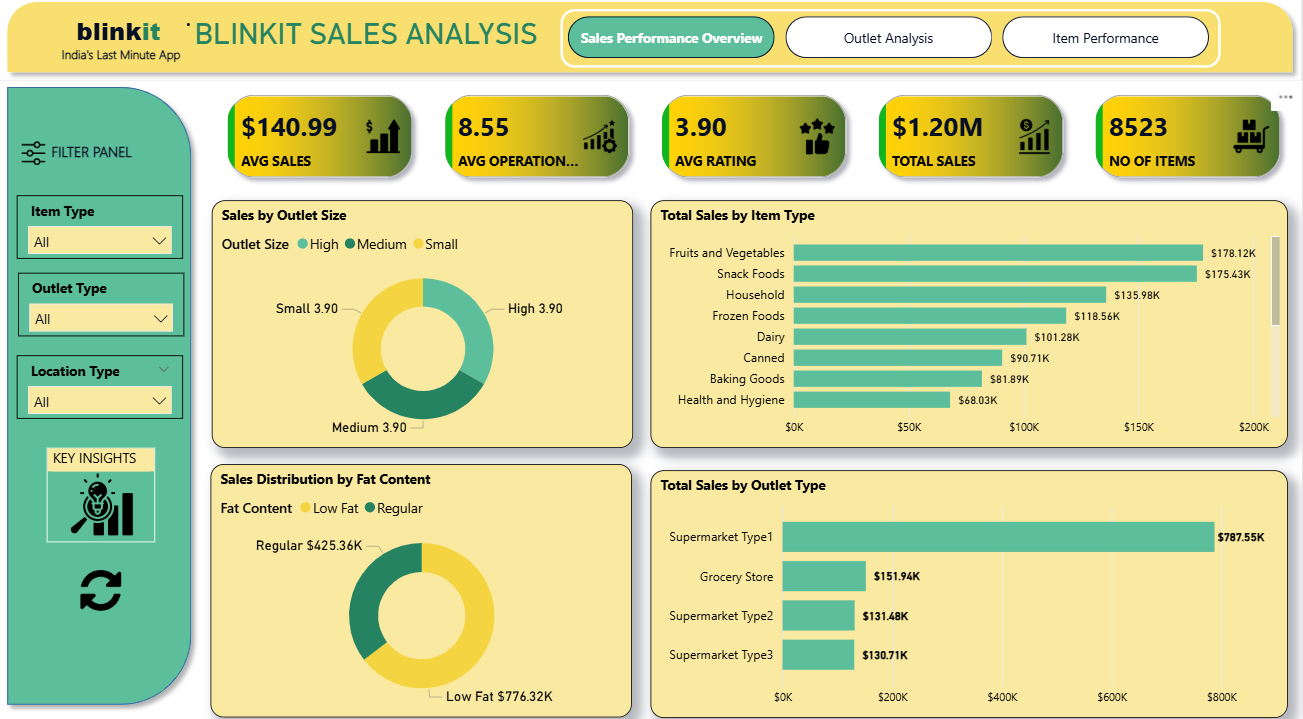

What the dashboard file says about the page in this screenshot:
{"tool":"powerbi","page":{"name":"Sales Performance Overview","canvas":[1280,720],"ordinal":0},"visuals":[{"type":"cardVisual","fields":{"Data":["DAX MEASURES.Average Sales per Outlet","DAX MEASURES.Average Years of Operation","DAX MEASURES.Avg Item Rating (CSAT)","DAX MEASURES.Total Sales","DAX MEASURES.No of Items"]},"box":[208.6,87.1,1071.2,115.3],"z":0},{"type":"image","box":[67.5,469.9,96.9,56.4],"z":1000},{"type":"donutChart","title":"Sales Distribution by Fat Content","fields":{"Category":["BlinkIT Grocery Data.Item Fat Content"],"Y":["DAX MEASURES.Total Sales"]},"box":[208.6,466.3,413.5,249.1],"z":2000},{"type":"donutChart","title":"Sales by Outlet Size","fields":{"Category":["BlinkIT Grocery Data.Outlet Size"],"Y":["DAX MEASURES.Avg Item Rating (CSAT)"]},"box":[209.8,207.4,413.5,242.9],"z":3000},{"type":"shape","box":[0,3.7,1279.8,87.1],"z":4000},{"type":"clusteredBarChart","fields":{"Category":["BlinkIT Grocery Data.Item Type"],"Y":["DAX MEASURES.Total Sales"]},"box":[640.5,207.4,625.8,242.9],"z":5000},{"type":"shape","box":[0,87.1,198.8,624.5],"z":6000},{"type":"clusteredBarChart","fields":{"Category":["BlinkIT Grocery Data.Outlet Type"],"Y":["DAX MEASURES.Total Sales"]},"box":[640.5,472.4,625.8,242.9],"z":7000},{"type":"textbox","box":[28.2,18.4,180.4,57.7],"z":8000},{"type":"textbox","box":[30.7,49.1,180.4,38],"z":9000},{"type":"textbox","box":[164.4,22.1,375.5,65],"z":10000},{"type":"slicer","fields":{"Values":["BlinkIT Grocery Data.Item Type"]},"box":[18.4,202.5,163.2,62.6],"z":11000},{"type":"slicer","fields":{"Values":["BlinkIT Grocery Data.Outlet Type"]},"box":[19.6,278.5,163.2,62.6],"z":12000},{"type":"slicer","fields":{"Values":["BlinkIT Grocery Data.Outlet Location Type"]},"box":[18.4,359.5,163.2,62.6],"z":13000},{"type":"image","box":[18.4,144.8,33.1,33.1],"z":14000},{"type":"textbox","box":[35.6,144.8,112.9,38],"z":15000},{"type":"pageNavigator","box":[552.2,19.6,647.9,57.7],"z":16000},{"type":"image","box":[76.2,561.2,50,58.8],"z":17000},{"type":"image","title":"KEY INSIGHTS","box":[47.5,450,106.2,92.5],"z":20000}]}

Visuals, with their boxes in screenshot pixels (x1, y1, x2, y2), scaled from the page's 1280x720 canvas onto the 1303x719 screenshot:
cardVisual - DAX MEASURES.Average Sales per Outlet x DAX MEASURES.Average Years of Operation: (212, 87, 1302, 202)
image: (69, 469, 167, 526)
"Sales Distribution by Fat Content" donutChart: (212, 466, 633, 714)
"Sales by Outlet Size" donutChart: (214, 207, 634, 450)
shape: (0, 4, 1302, 91)
clusteredBarChart - BlinkIT Grocery Data.Item Type x DAX MEASURES.Total Sales: (652, 207, 1289, 450)
shape: (0, 87, 202, 711)
clusteredBarChart - BlinkIT Grocery Data.Outlet Type x DAX MEASURES.Total Sales: (652, 472, 1289, 714)
textbox: (29, 18, 212, 76)
textbox: (31, 49, 215, 87)
textbox: (167, 22, 550, 87)
slicer - BlinkIT Grocery Data.Item Type: (19, 202, 185, 265)
slicer - BlinkIT Grocery Data.Outlet Type: (20, 278, 186, 341)
slicer - BlinkIT Grocery Data.Outlet Location Type: (19, 359, 185, 422)
image: (19, 145, 52, 178)
textbox: (36, 145, 151, 183)
pageNavigator: (562, 20, 1222, 77)
image: (78, 560, 128, 619)
"KEY INSIGHTS" image: (48, 449, 156, 542)
